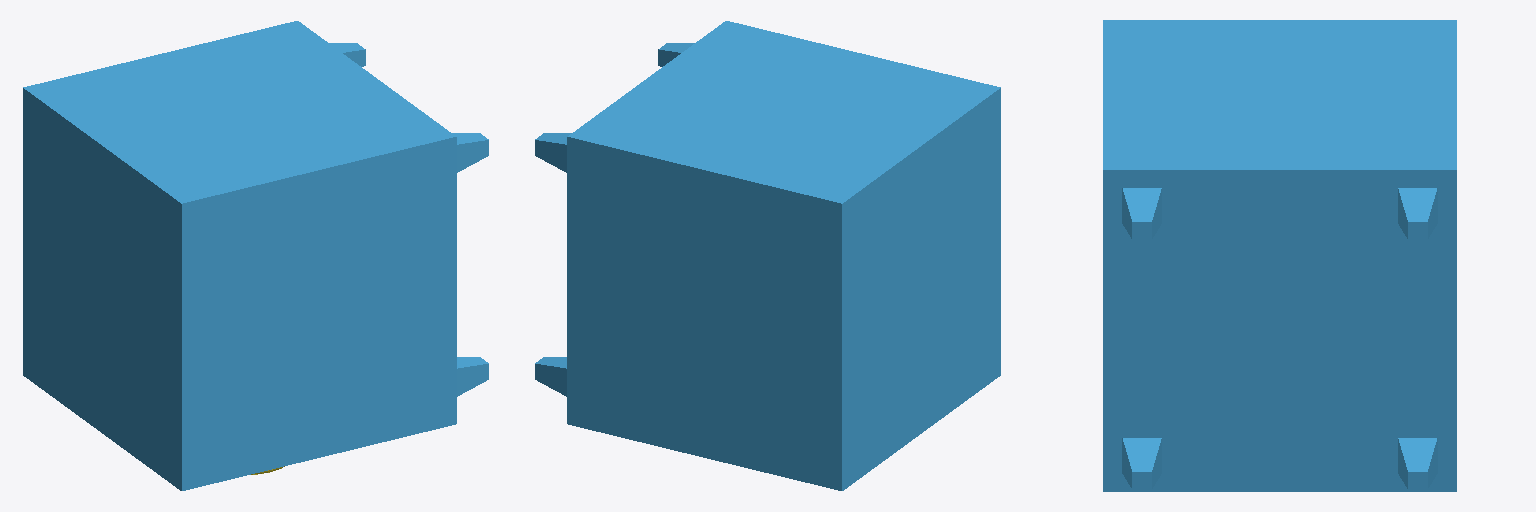
URDF robot description (right-pull-door):
<?xml version="1.0" ?>
<robot name="right-pull-door">
	<mujoco>
        <compiler meshdir="texture_stl" balanceinertia="true" discardvisual="false"/>
    </mujoco>
	<link name="base"/>
	<link name="link_0">
		<visual name="out-frame">
			<origin xyz="0 0 0"/>
			<geometry>
				<mesh filename="texture_stl/frame.stl" scale="0.6 0.6 0.6"/>
			</geometry>
		</visual>
		<collision>
			<origin xyz="0 0 0"/>
			<geometry>
				<mesh filename="texture_stl/frame.stl" scale="0.6 0.6 0.6"/>
			</geometry>
		</collision>
	</link>
	<joint name="joint_0" type="fixed">
		<origin rpy="1.570796326794897 0 -1.570796326794897" xyz="0 0 0"/>
		<child link="link_0"/>
		<parent link="base"/>
	</joint>
	<link name="link_1">
		<visual name="surf-board">
			<origin xyz="0.2467593642047614 0 0"/>
			<geometry>
				<mesh filename="texture_stl/board.stl" scale="0.6 0.6 0.6"/>
			</geometry>
		</visual>
		<collision>
			<origin xyz="0.2467593642047614 0 0"/>
			<geometry>
				<mesh filename="texture_stl/board.stl" scale="0.6 0.6 0.6"/>
			</geometry>
		</collision>
	</link>
	<joint name="joint_1" type="revolute">
		<origin xyz="-0.2467593642047614 0 0"/>
		<axis xyz="0 -1 0"/>
		<child link="link_1"/>
		<parent link="link_0"/>
		<limit lower="0" upper="1.5079644737231006"/>
	</joint>
	<link name="link_2">
		<visual name="handle">
			<origin xyz="0 0 0"/>
			<geometry>
				<mesh filename="texture_stl/9961213.stl" scale="0.6 0.6 0.6"/>
			</geometry>
		</visual>
		<collision>
			<origin xyz="0 0 0"/>
			<geometry>
				<mesh filename="texture_stl/9961213.stl" scale="0.6 0.6 0.6"/>
			</geometry>
		</collision>
	</link>
	<joint name="joint_2" type="revolute">
		<origin xyz="0.2467593642047614 0 0.010087464443295842"/>
		<child link="link_2"/>
		<parent link="link_1"/>
		<axis xyz="0 0 1"/>
		<limit lower="0" upper="1.5079644737231006"/>
	</joint>
</robot>

--- Facts derived from the render (not from the file) ---
Views: 3 orthographic renders of the robot side by side, from view 1: azimuth 30°, elevation 25°; view 2: azimuth 150°, elevation 25°; view 3: azimuth 270°, elevation 25°.
Robot: right-pull-door — 4 links, 3 joints (2 revolute, 1 fixed); root link base; default pose: all joints at 0.
Visible links, largest first — view 1: link_0; view 2: link_0; view 3: link_0.
Link boxes in pixels (left/top/right/bottom): link_0: left=23, top=21, right=488, bottom=490; link_0: left=535, top=21, right=1000, bottom=490; link_0: left=1103, top=20, right=1456, bottom=491.
Bounding box of the posed robot: 0.6401 × 0.5486 × 0.6366 m (x, y, z).
Meshes: 3 distinct files referenced, 3 mesh visuals loaded (3 binary STL).